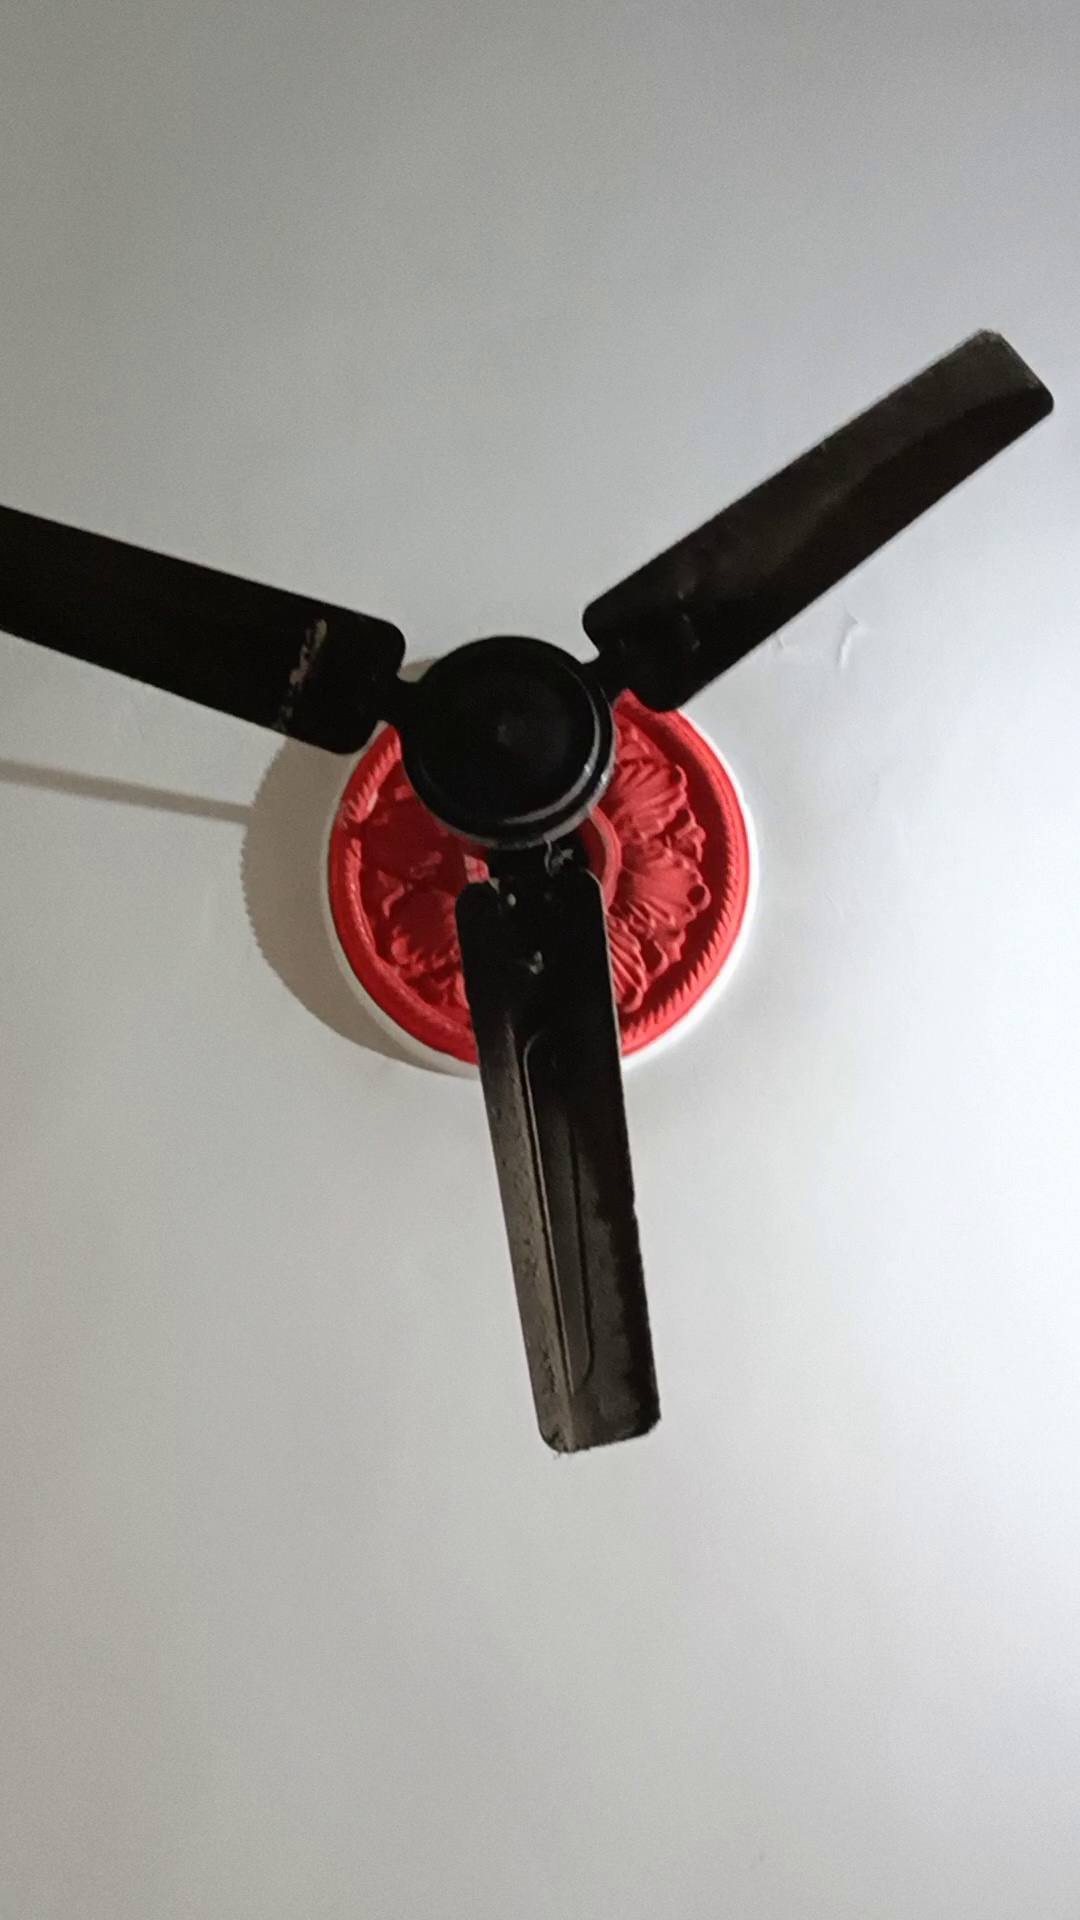fan: (1, 285, 1072, 1404)
